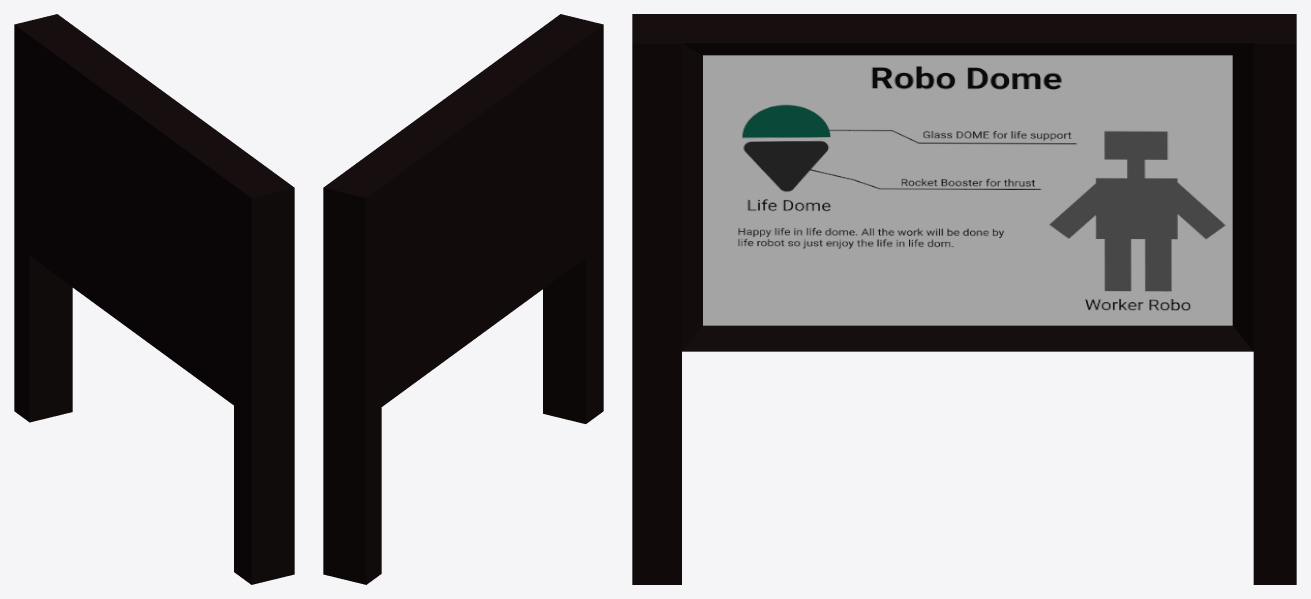
Rendered from billboard with info.fbx.
3 renders of one model, left to right at view 1: azimuth 30°, elevation 25°; view 2: azimuth 150°, elevation 25°; view 3: azimuth 270°, elevation 25°, orthographic. The views are drawn at different scales.
Parts seen in each view (by area): view 1: Cube; view 2: Cube; view 3: Cube.
Part boxes in pixels (<box>): Cube: <box>14,14,294,584</box>; Cube: <box>323,14,603,584</box>; Cube: <box>632,14,1296,584</box>.
Bounding box in the file's own units: 42.36 × 363 × 404.
2 materials, 1 textured.
